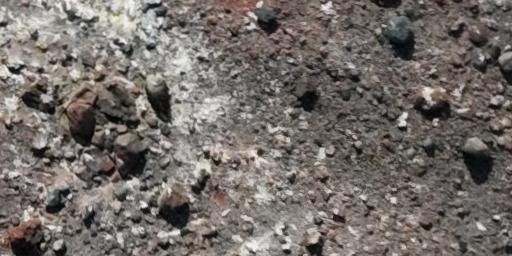skua: (137, 60, 178, 129)
